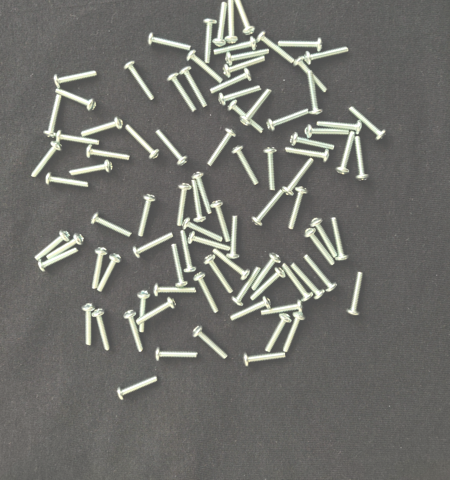longscrew: (293, 58, 334, 97), (256, 31, 298, 66), (347, 104, 387, 139), (233, 263, 263, 308), (281, 161, 317, 197), (137, 294, 175, 328), (155, 126, 188, 165), (192, 326, 231, 359), (228, 147, 258, 189), (251, 267, 286, 303), (305, 227, 334, 269), (307, 253, 336, 295), (166, 72, 198, 110), (180, 67, 212, 105), (126, 122, 158, 160), (252, 251, 279, 296), (243, 87, 271, 129), (93, 211, 135, 239), (204, 131, 236, 167), (205, 255, 233, 296), (212, 249, 249, 280), (218, 79, 262, 105), (311, 216, 338, 258), (28, 144, 60, 179), (134, 231, 174, 259), (282, 262, 310, 301), (123, 64, 155, 98), (230, 100, 261, 135), (293, 260, 321, 298), (229, 294, 267, 322), (252, 194, 285, 226), (211, 66, 250, 93), (39, 246, 77, 273), (333, 130, 356, 174), (97, 255, 125, 291), (33, 231, 70, 258), (45, 235, 82, 262), (199, 20, 222, 62), (223, 217, 246, 259), (222, 0, 244, 43), (208, 2, 230, 45), (209, 199, 231, 242), (188, 179, 210, 222), (136, 194, 158, 237), (176, 231, 198, 274), (166, 243, 188, 286), (117, 378, 158, 401), (194, 173, 216, 215), (172, 185, 194, 227), (42, 95, 63, 139), (196, 273, 218, 314), (75, 119, 124, 137), (49, 90, 98, 108), (151, 348, 200, 366), (242, 351, 291, 369), (277, 35, 326, 53), (220, 46, 269, 64), (124, 308, 142, 357), (132, 288, 150, 337), (349, 270, 367, 319), (330, 215, 348, 264), (221, 58, 269, 76), (210, 39, 258, 57), (262, 298, 302, 319), (289, 187, 306, 234), (90, 249, 109, 291), (267, 110, 311, 128), (144, 33, 192, 49), (52, 70, 100, 86), (42, 176, 90, 192), (284, 311, 304, 349), (269, 313, 289, 351), (66, 160, 113, 176), (151, 284, 200, 299), (234, 0, 256, 33), (55, 132, 103, 147), (86, 146, 133, 161), (318, 117, 362, 133), (307, 124, 351, 140), (289, 133, 333, 149), (266, 146, 280, 195), (285, 146, 329, 161), (306, 49, 350, 64), (96, 306, 109, 353), (80, 303, 93, 350), (308, 74, 321, 113), (357, 136, 366, 184)
